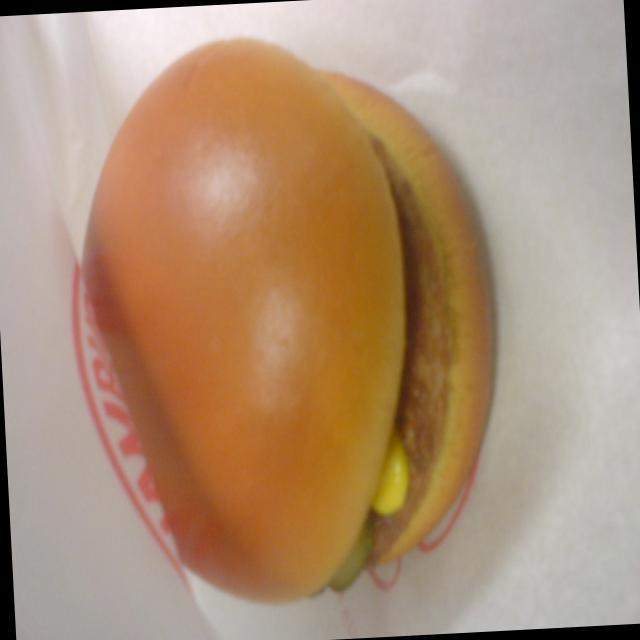Hamburger: (52, 12, 532, 622)
